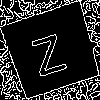Z: (26, 25, 68, 78)
